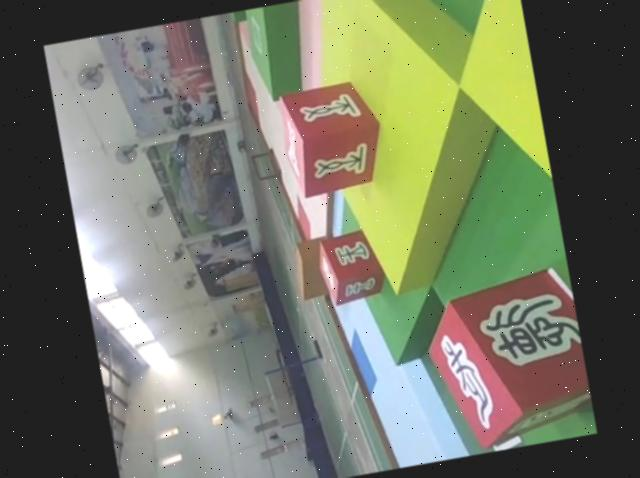R2 Fake: (413, 259, 596, 454)
R2 Real: (272, 74, 391, 201), (311, 228, 387, 307)
